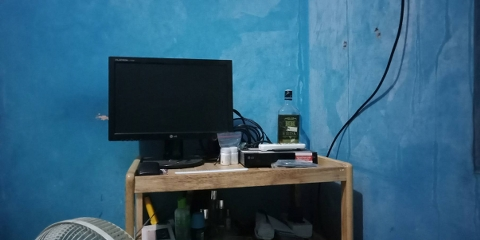meja: (124, 148, 352, 240)
pc: (108, 56, 233, 167)
tempat minum: (278, 89, 299, 143)
